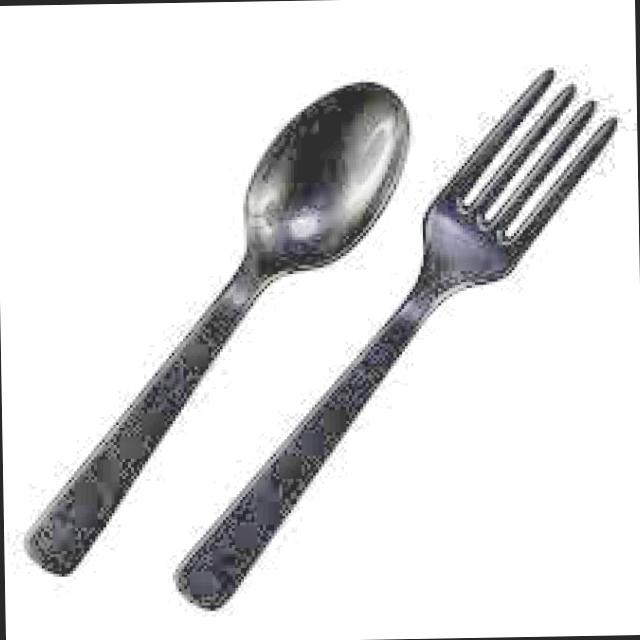plastic utensil: (178, 70, 615, 609), (29, 82, 409, 574)
